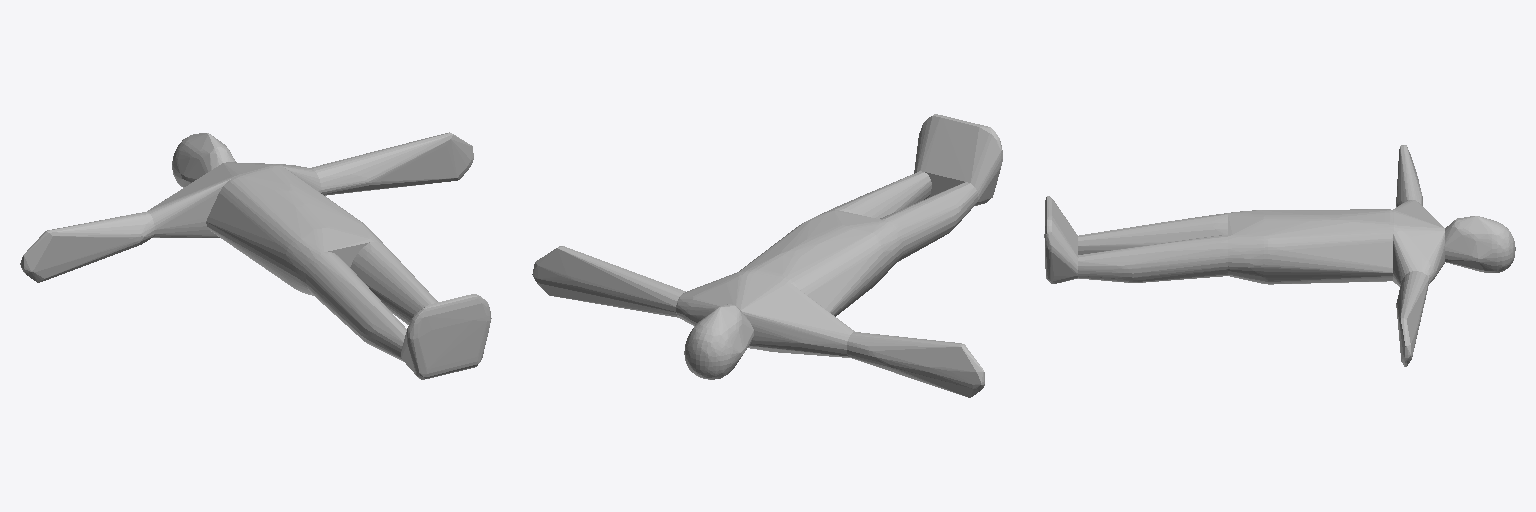
The robot description file, URDF, robot "root":
<robot name="root">
  <link name="object">
    <visual>
      <origin xyz="0 0 0" rpy="0 0 0"/>
      <geometry>
        <mesh filename="coacd_convex_piece_0.obj" scale="1.0000E+00 1.0000E+00 1.0000E+00"/>
      </geometry>
      <material name="">
        <color rgba="7.50E-01 7.50E-01 7.50E-01 1"/>
      </material>
    </visual>
    <collision>
      <origin xyz="0 0 0" rpy="0 0 0"/>
      <geometry>
        <mesh filename="coacd_convex_piece_0.obj" scale="1.0000E+00 1.0000E+00 1.0000E+00"/>
      </geometry>
    </collision>
    <visual>
      <origin xyz="0 0 0" rpy="0 0 0"/>
      <geometry>
        <mesh filename="coacd_convex_piece_1.obj" scale="1.0000E+00 1.0000E+00 1.0000E+00"/>
      </geometry>
      <material name="">
        <color rgba="7.50E-01 7.50E-01 7.50E-01 1"/>
      </material>
    </visual>
    <collision>
      <origin xyz="0 0 0" rpy="0 0 0"/>
      <geometry>
        <mesh filename="coacd_convex_piece_1.obj" scale="1.0000E+00 1.0000E+00 1.0000E+00"/>
      </geometry>
    </collision>
    <visual>
      <origin xyz="0 0 0" rpy="0 0 0"/>
      <geometry>
        <mesh filename="coacd_convex_piece_2.obj" scale="1.0000E+00 1.0000E+00 1.0000E+00"/>
      </geometry>
      <material name="">
        <color rgba="7.50E-01 7.50E-01 7.50E-01 1"/>
      </material>
    </visual>
    <collision>
      <origin xyz="0 0 0" rpy="0 0 0"/>
      <geometry>
        <mesh filename="coacd_convex_piece_2.obj" scale="1.0000E+00 1.0000E+00 1.0000E+00"/>
      </geometry>
    </collision>
    <visual>
      <origin xyz="0 0 0" rpy="0 0 0"/>
      <geometry>
        <mesh filename="coacd_convex_piece_3.obj" scale="1.0000E+00 1.0000E+00 1.0000E+00"/>
      </geometry>
      <material name="">
        <color rgba="7.50E-01 7.50E-01 7.50E-01 1"/>
      </material>
    </visual>
    <collision>
      <origin xyz="0 0 0" rpy="0 0 0"/>
      <geometry>
        <mesh filename="coacd_convex_piece_3.obj" scale="1.0000E+00 1.0000E+00 1.0000E+00"/>
      </geometry>
    </collision>
    <visual>
      <origin xyz="0 0 0" rpy="0 0 0"/>
      <geometry>
        <mesh filename="coacd_convex_piece_4.obj" scale="1.0000E+00 1.0000E+00 1.0000E+00"/>
      </geometry>
      <material name="">
        <color rgba="7.50E-01 7.50E-01 7.50E-01 1"/>
      </material>
    </visual>
    <collision>
      <origin xyz="0 0 0" rpy="0 0 0"/>
      <geometry>
        <mesh filename="coacd_convex_piece_4.obj" scale="1.0000E+00 1.0000E+00 1.0000E+00"/>
      </geometry>
    </collision>
    <visual>
      <origin xyz="0 0 0" rpy="0 0 0"/>
      <geometry>
        <mesh filename="coacd_convex_piece_5.obj" scale="1.0000E+00 1.0000E+00 1.0000E+00"/>
      </geometry>
      <material name="">
        <color rgba="7.50E-01 7.50E-01 7.50E-01 1"/>
      </material>
    </visual>
    <collision>
      <origin xyz="0 0 0" rpy="0 0 0"/>
      <geometry>
        <mesh filename="coacd_convex_piece_5.obj" scale="1.0000E+00 1.0000E+00 1.0000E+00"/>
      </geometry>
    </collision>
    <visual>
      <origin xyz="0 0 0" rpy="0 0 0"/>
      <geometry>
        <mesh filename="coacd_convex_piece_6.obj" scale="1.0000E+00 1.0000E+00 1.0000E+00"/>
      </geometry>
      <material name="">
        <color rgba="7.50E-01 7.50E-01 7.50E-01 1"/>
      </material>
    </visual>
    <collision>
      <origin xyz="0 0 0" rpy="0 0 0"/>
      <geometry>
        <mesh filename="coacd_convex_piece_6.obj" scale="1.0000E+00 1.0000E+00 1.0000E+00"/>
      </geometry>
    </collision>
    <visual>
      <origin xyz="0 0 0" rpy="0 0 0"/>
      <geometry>
        <mesh filename="coacd_convex_piece_7.obj" scale="1.0000E+00 1.0000E+00 1.0000E+00"/>
      </geometry>
      <material name="">
        <color rgba="7.50E-01 7.50E-01 7.50E-01 1"/>
      </material>
    </visual>
    <collision>
      <origin xyz="0 0 0" rpy="0 0 0"/>
      <geometry>
        <mesh filename="coacd_convex_piece_7.obj" scale="1.0000E+00 1.0000E+00 1.0000E+00"/>
      </geometry>
    </collision>
  </link>
</robot>

--- Render facts (derived) ---
The picture shows the robot from 3 angles, left to right: view 1: azimuth 30°, elevation 25°; view 2: azimuth 150°, elevation 25°; view 3: azimuth 270°, elevation 25°; orthographic projection.
Model root with 1 links and 0 joints (none), rooted at object, posed all joints at 0.
Links seen in each view (by area): view 1: object; view 2: object; view 3: object.
Boxes of the visible links, left/top/right/bottom form: object: left=20, top=132, right=491, bottom=379; object: left=532, top=114, right=1002, bottom=397; object: left=1044, top=145, right=1515, bottom=366.
Size in the robot's own frame: 1.75 by 1.8 by 0.29 metres.
Meshes: 8 distinct files referenced, 8 mesh visuals loaded (8 OBJ).
